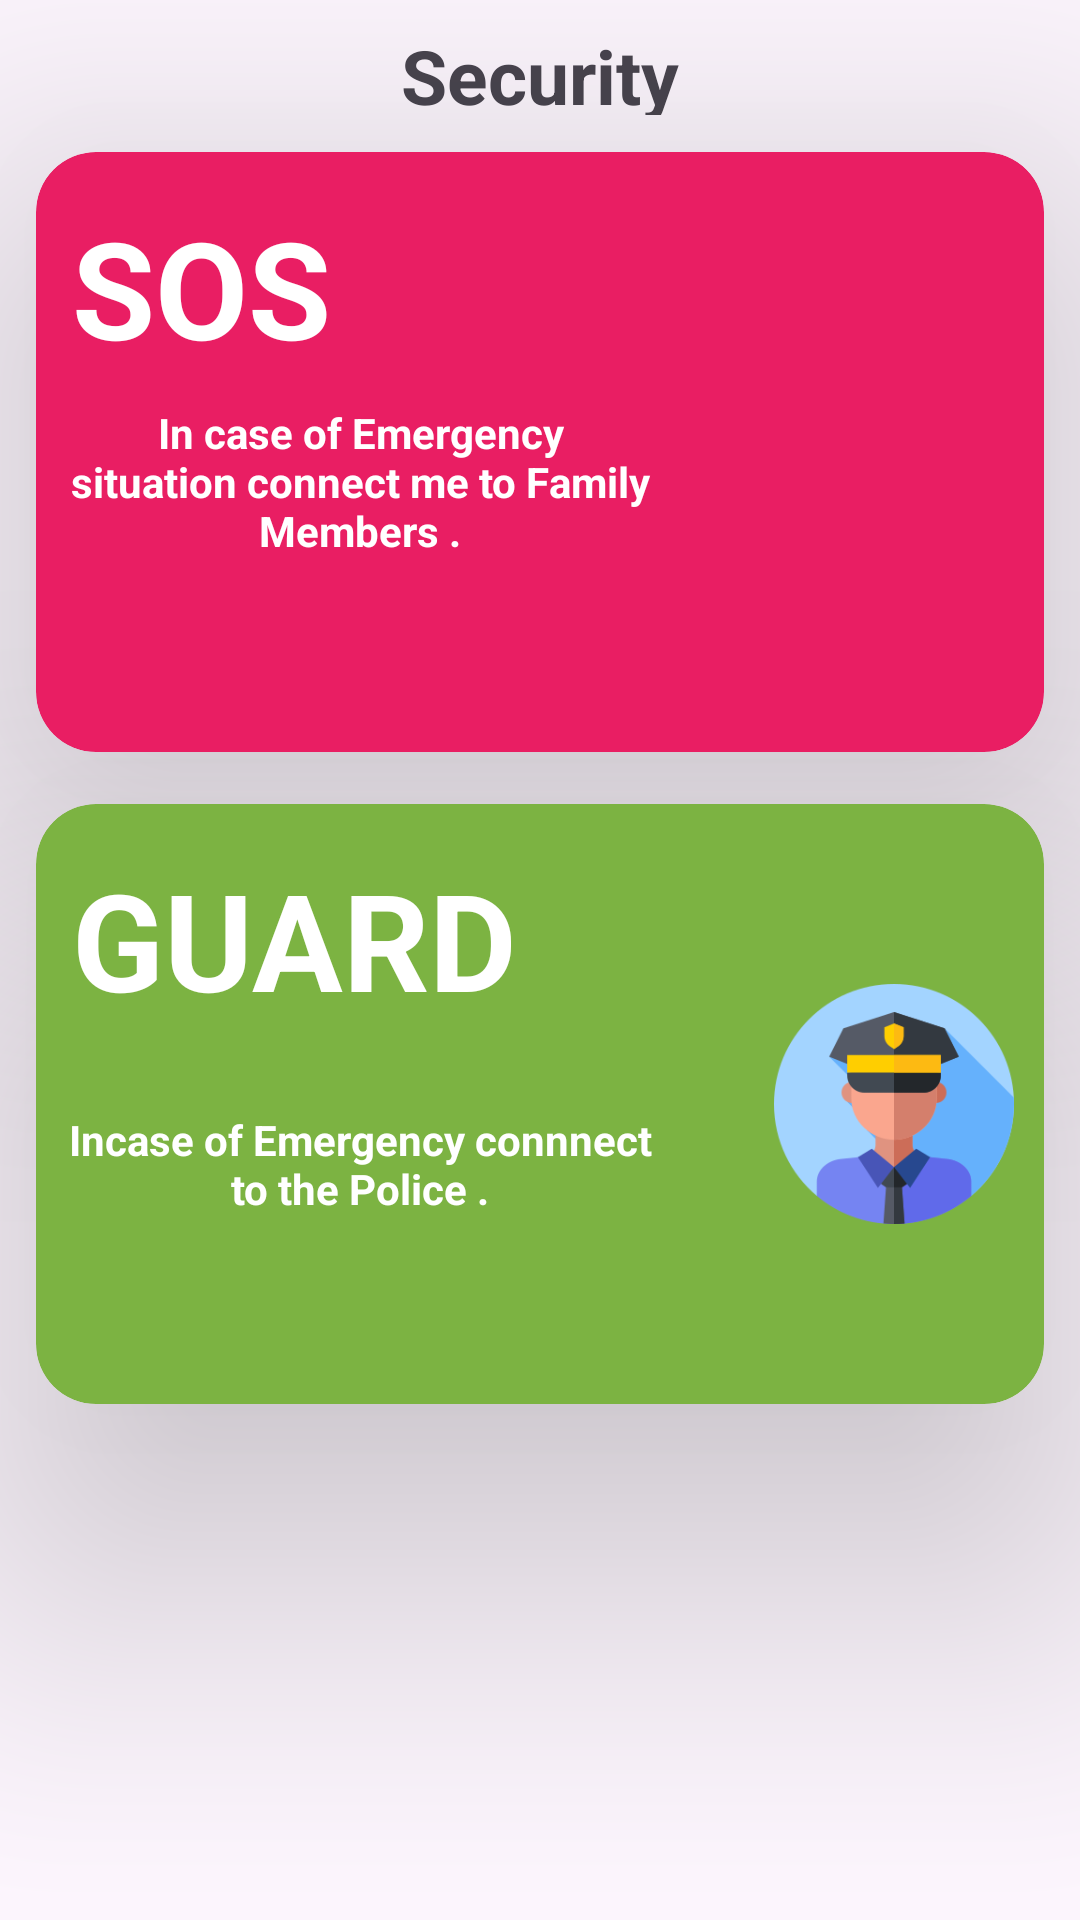

Where to tap for icons on this 1080 × 1920 app screen, as (x,y):
policeman: (894,1104)
